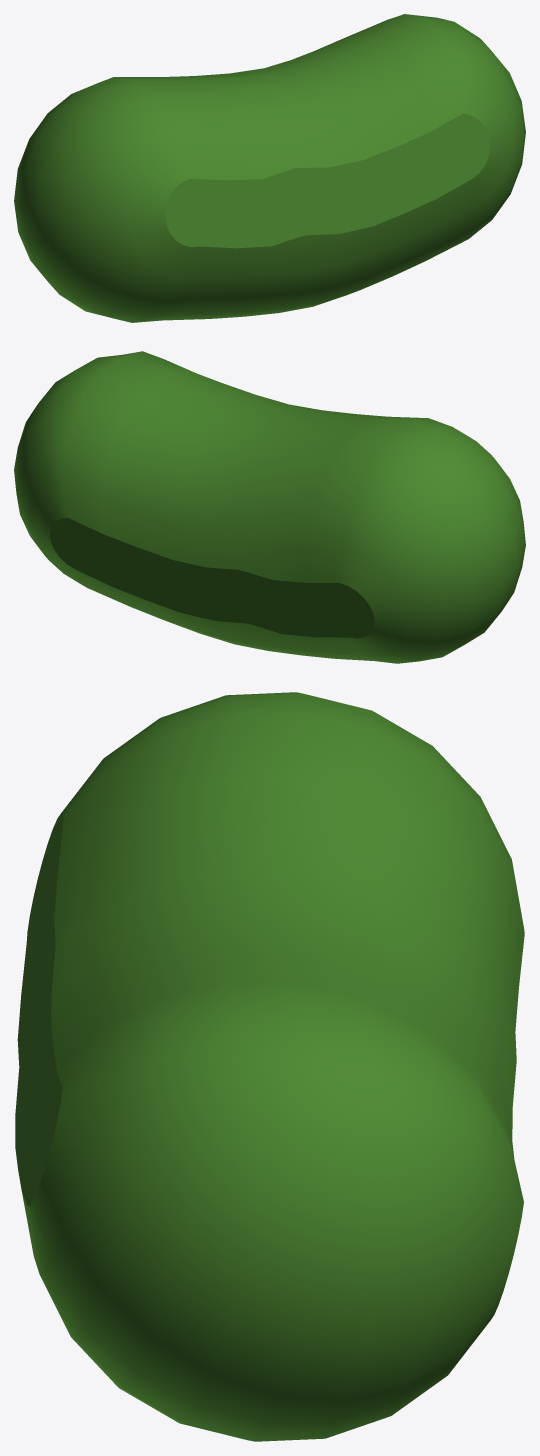
File: jelly bean 2.FBX
3 renders of one model, top to bottom at view 1: azimuth 30°, elevation 25°; view 2: azimuth 150°, elevation 25°; view 3: azimuth 270°, elevation 25°, orthographic. The views are drawn at different scales.
Parts seen in each view (by area): view 1: Sphere001; view 2: Sphere001; view 3: Sphere001.
Boxes of the visible parts, x1,y1,x2,y2 form: Sphere001: (14, 14, 525, 322); Sphere001: (14, 351, 525, 663); Sphere001: (15, 692, 524, 1441).
Size of the model in its own units: 11.29 by 5.54 by 5.24.
